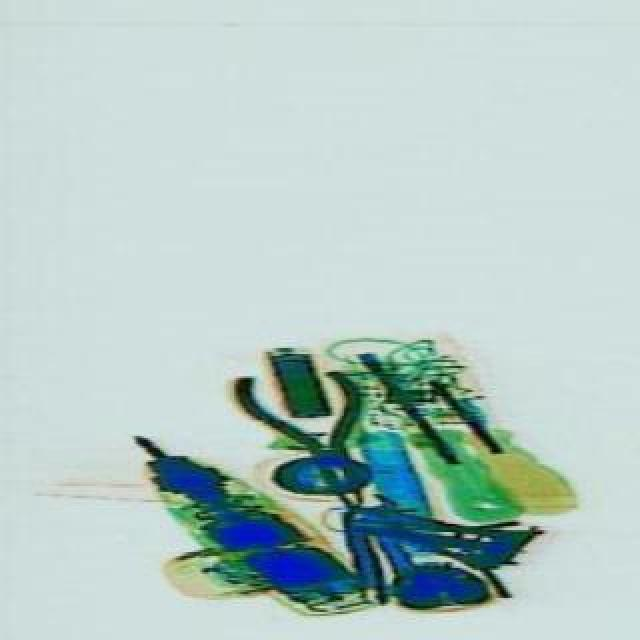scissors: (340, 486, 430, 598)
wrench: (220, 338, 396, 526)
